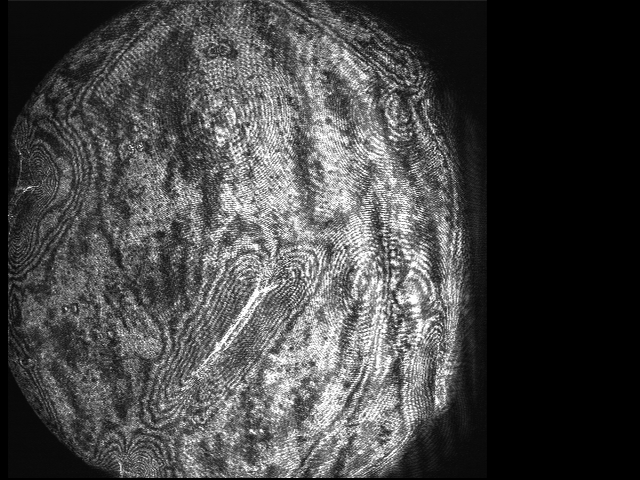plume: (138, 250, 314, 424)
